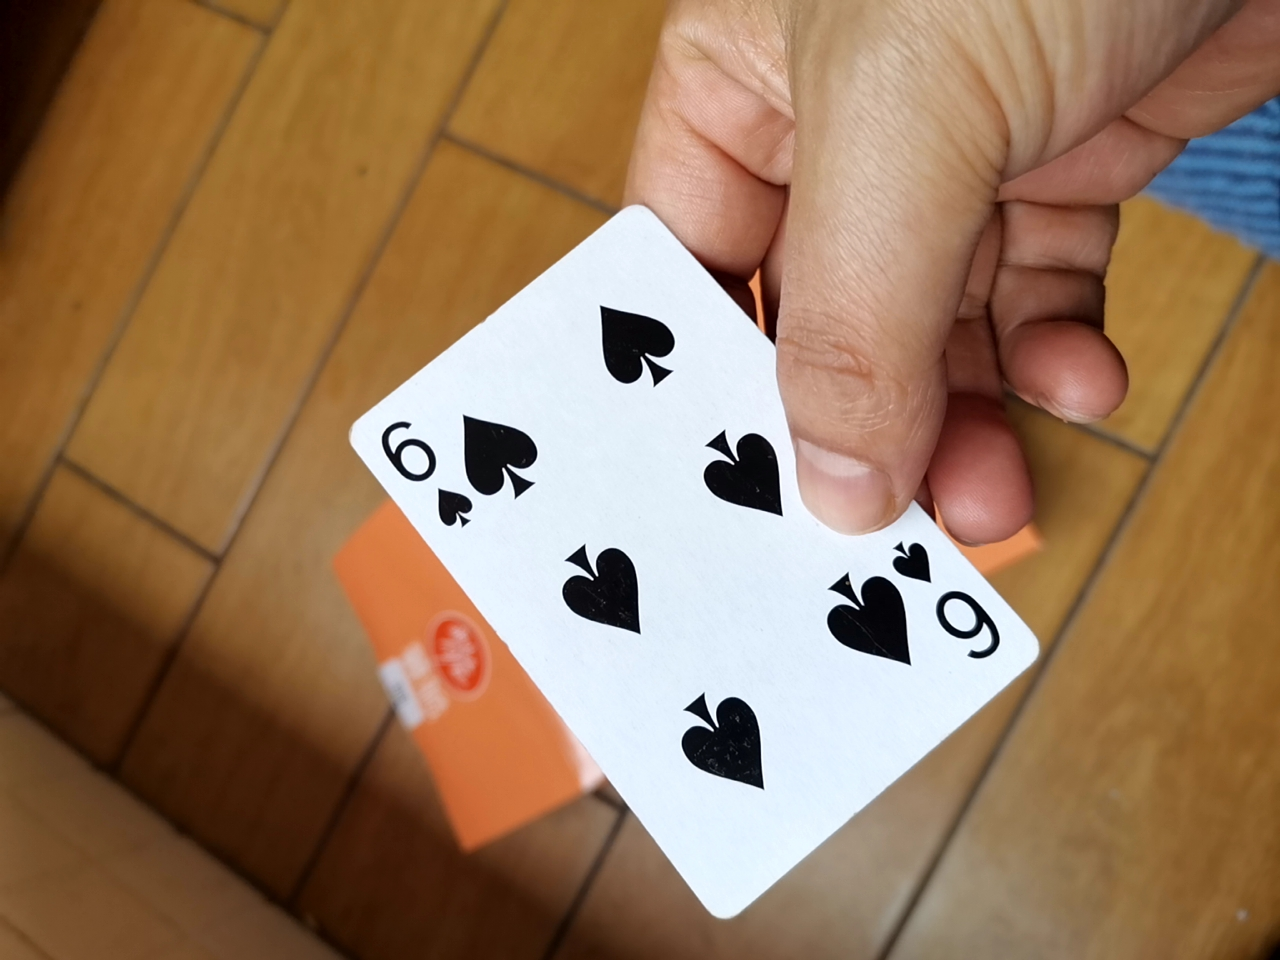ht 6: (328, 196, 1024, 928)
